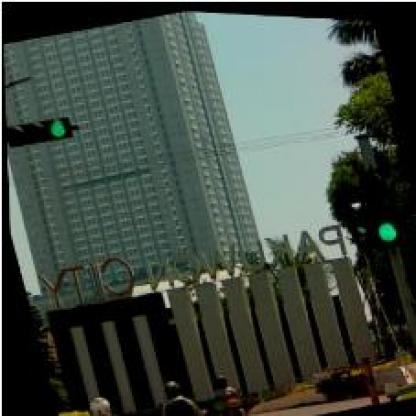green: (354, 160, 401, 247), (5, 110, 72, 150)
